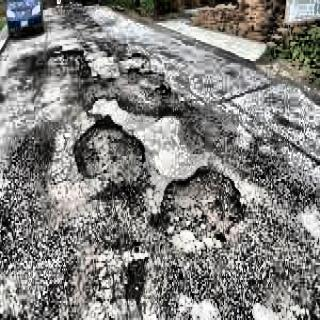alligator-crack: (40, 128, 73, 217), (83, 246, 117, 320)
pothole: (153, 143, 254, 265), (76, 98, 148, 192), (110, 50, 166, 97), (113, 240, 149, 312), (54, 43, 89, 72)
